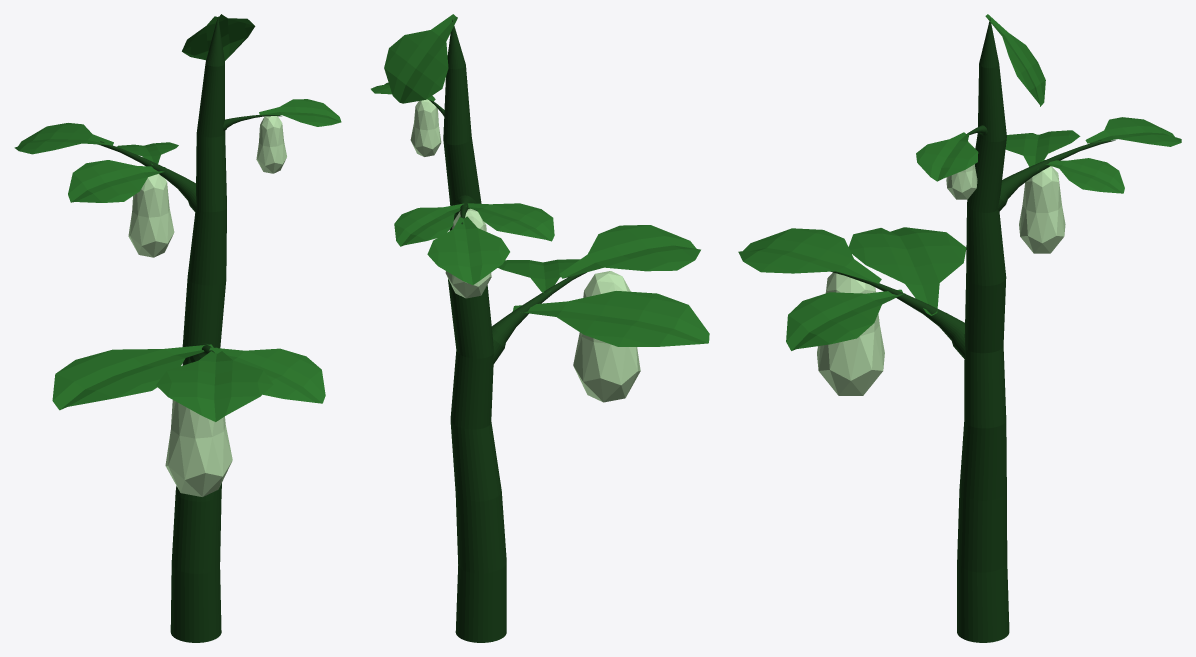
File: Eggplant_1.fbx
The picture shows the model from 3 angles, left to right: view 1: azimuth 30°, elevation 25°; view 2: azimuth 150°, elevation 25°; view 3: azimuth 270°, elevation 25°; orthographic projection. The views are drawn at different scales.
Parts seen in each view (by area): view 1: Cylinder, Plane.001, Plane.004, Icosphere, Plane, Plane.008, Icosphere.001, Plane.005, Plane.002, Icosphere.002, Plane.007, Cylinder.002 (+1 smaller); view 2: Cylinder, Plane.001, Plane.004, Icosphere, Plane.005, Plane.002, Plane.008, Plane.003, Icosphere.002, Plane, Cylinder.001, Icosphere.001; view 3: Cylinder, Plane.001, Plane.004, Plane, Icosphere, Icosphere.001, Plane.007, Plane.003, Plane.002, Plane.005, Plane.008, Cylinder.001 (+2 smaller).
Part boxes in pixels (x1,y1,x2,y2): Cylinder: (170,16,226,642); Plane.001: (52,344,217,410); Plane.004: (156,351,273,421); Icosphere: (165,400,232,496); Plane: (209,347,325,403); Plane.008: (68,160,165,202); Icosphere.001: (128,174,174,257); Plane.005: (182,14,255,60); Plane.002: (14,123,113,154); Icosphere.002: (256,116,286,173); Plane.007: (259,99,341,126); Cylinder.002: (97,141,196,211); Cylinder: (443,19,506,642); Plane.001: (512,291,709,346); Plane.004: (559,225,700,278); Icosphere: (573,271,640,402); Plane.005: (384,14,457,103); Plane.002: (427,216,509,284); Plane.008: (467,203,554,241); Plane.003: (394,203,466,246); Icosphere.002: (410,99,441,156); Plane: (498,259,579,293); Cylinder.001: (491,272,586,363); Icosphere.001: (445,208,491,298); Cylinder: (957,18,1009,642); Plane.001: (848,227,966,315); Plane.004: (738,228,881,283); Plane: (786,289,905,350); Icosphere: (817,272,884,395); Icosphere.001: (1019,166,1065,253); Plane.007: (916,132,978,181); Plane.003: (1042,158,1124,193); Plane.002: (1085,117,1181,146); Plane.005: (985,14,1045,106); Plane.008: (1005,130,1080,169); Cylinder.001: (831,271,965,358).
Size of the model in its own units: 414 by 791 by 505.
